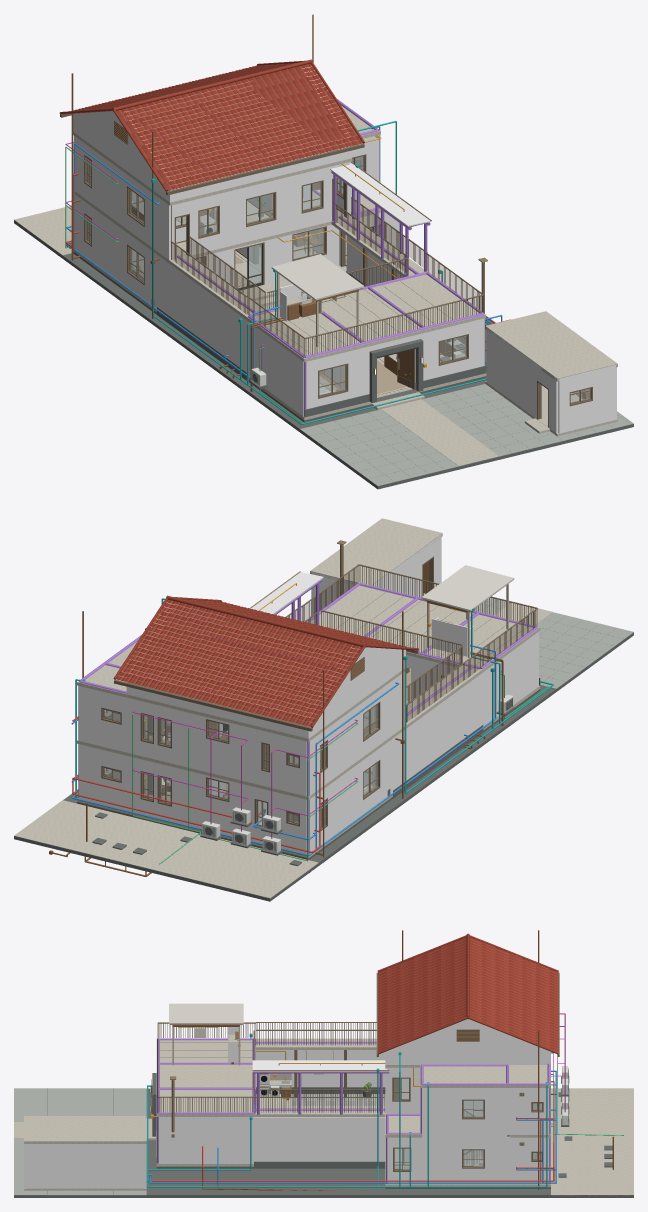
Rendered from courtyard-house.glb.
3 views of the same model, one above another, from view 1: azimuth 30°, elevation 25°; view 2: azimuth 150°, elevation 25°; view 3: azimuth 270°, elevation 25° (orthographic). The views are drawn at different scales.
Parts seen in each view (by area): view 1: Rear glazed tiles, Open front forecourt, Accessible flat roof terrace, Site plinth, Courtyard boundary wall, Storage flat roof slab, Forecourt central approach, Second-floor top plate / attic floor, Wall.008, Wall.027, Pavilion sloping roof, Attic knee wall (+26 smaller); view 2: Rear glazed tiles, Rear service yard, Accessible flat roof terrace, Courtyard boundary wall, Open front forecourt, Site plinth, Storage flat roof slab, Second-floor top plate / attic floor, Wall.027, Pavilion sloping roof, Attic knee wall.001, Wall.063 (+32 smaller); view 3: Rear glazed tiles, Site plinth, Rear service yard, Accessible flat roof terrace, Courtyard boundary wall.001, Wall.005, Open front forecourt, Wall.028, Storage flat roof slab, Attic side knee wall.001, Courtyard boundary wall, Gable.001 (+22 smaller).
Boxes of the visible parts, x1,y1,x2,y2 form: Rear glazed tiles: (69, 63, 362, 190); Open front forecourt: (300, 384, 633, 486); Accessible flat roof terrace: (246, 274, 486, 362); Site plinth: (14, 220, 633, 489); Courtyard boundary wall: (157, 255, 246, 372); Storage flat roof slab: (485, 311, 617, 381); Forecourt central approach: (381, 399, 498, 465); Second-floor top plate / attic floor: (73, 90, 351, 205); Wall.008: (486, 328, 536, 418); Wall.027: (247, 320, 303, 416); Pavilion sloping roof: (271, 254, 364, 300); Attic knee wall: (167, 138, 349, 201); Rear glazed tiles: (116, 599, 409, 727); Rear service yard: (14, 800, 318, 898); Accessible flat roof terrace: (309, 585, 540, 672); Courtyard boundary wall: (393, 673, 482, 790); Open front forecourt: (474, 597, 633, 688); Site plinth: (14, 632, 633, 901); Storage flat roof slab: (310, 518, 442, 585); Second-floor top plate / attic floor: (126, 626, 404, 741); Wall.027: (483, 632, 538, 726); Pavilion sloping roof: (421, 565, 514, 611); Attic knee wall.001: (126, 674, 310, 738); Wall.063: (328, 760, 362, 839); Rear glazed tiles: (378, 937, 558, 1052); Site plinth: (14, 1088, 633, 1197); Rear service yard: (551, 1088, 633, 1195); Accessible flat roof terrace: (156, 1039, 255, 1116); Courtyard boundary wall.001: (254, 1117, 385, 1161); Wall.005: (26, 1144, 144, 1188); Open front forecourt: (14, 1088, 146, 1195); Wall.028: (158, 1117, 253, 1163); Storage flat roof slab: (24, 1116, 146, 1143); Attic side knee wall.001: (386, 1048, 550, 1064); Courtyard boundary wall: (256, 1050, 385, 1087); Gable.001: (394, 1019, 541, 1048).
Bounding box in the file's own units: 15.2 × 11.7 × 37.4.
62 materials, 16 textured.
